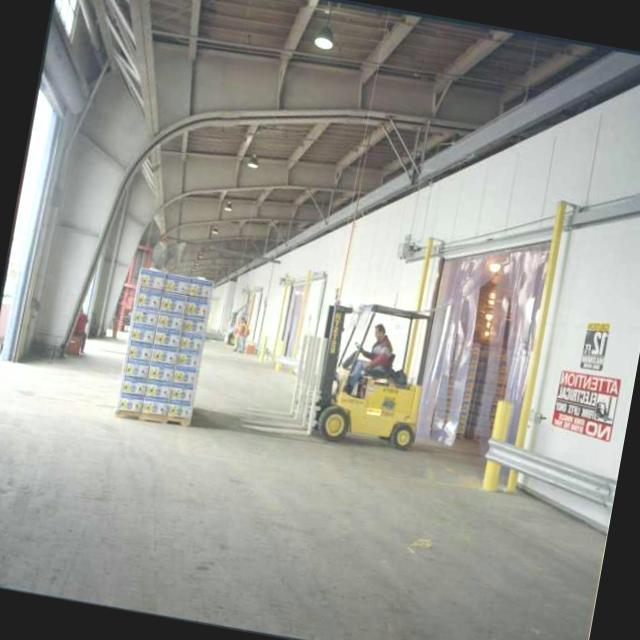driver: (341, 314, 404, 401)
forklift: (289, 292, 436, 458)
